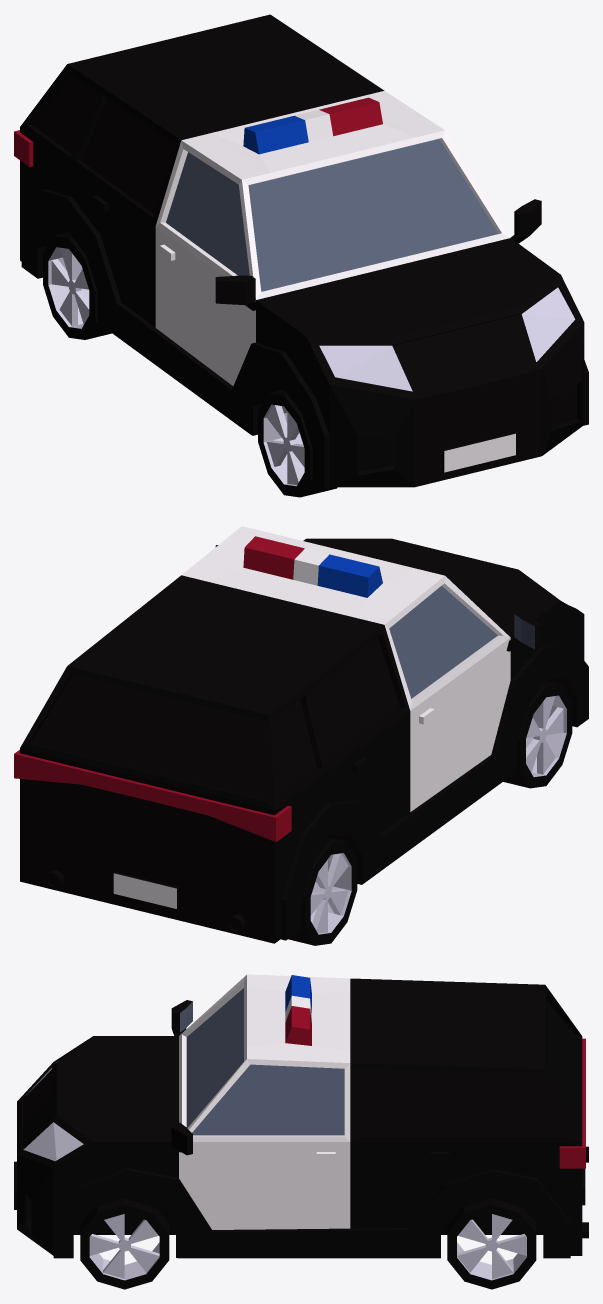
The model's file is police-suv.glb.
The picture shows the model from 3 angles, top to bottom: view 1: azimuth 30°, elevation 25°; view 2: azimuth 150°, elevation 25°; view 3: azimuth 270°, elevation 25°; orthographic projection. The views are drawn at different scales.
Visible parts, largest first — view 1: Police SUV, Police SUV wheel front right, Police SUV wheel rear right; view 2: Police SUV, Police SUV wheel rear right, Police SUV wheel front right; view 3: Police SUV, Police SUV wheel front left, Police SUV wheel rear left.
Part boxes in pixels (box(x1,y1,x2,y2)): Police SUV: box(14, 14, 588, 488); Police SUV wheel front right: box(258, 389, 337, 497); Police SUV wheel rear right: box(43, 232, 111, 339); Police SUV: box(14, 526, 588, 943); Police SUV wheel rear right: box(288, 838, 357, 945); Police SUV wheel front right: box(503, 680, 572, 788); Police SUV: box(14, 974, 588, 1258); Police SUV wheel front left: box(80, 1199, 169, 1289); Police SUV wheel rear left: box(447, 1199, 536, 1289).
Bounding box in the file's own units: 2.81 × 2.26 × 5.04.
